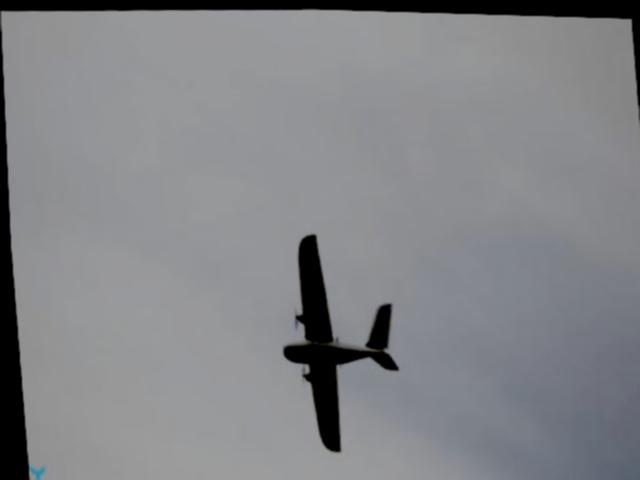uav: (251, 212, 413, 464)
